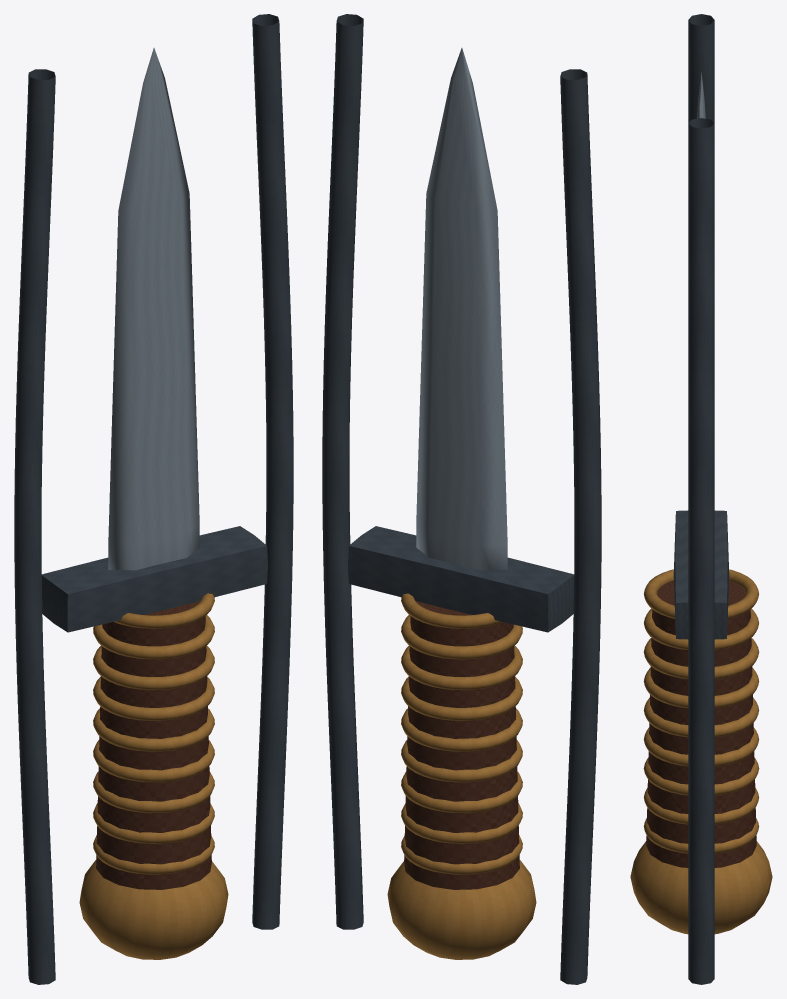
The picture shows the model from 3 angles, left to right: view 1: azimuth 30°, elevation 25°; view 2: azimuth 150°, elevation 25°; view 3: azimuth 270°, elevation 25°; orthographic projection. The views are drawn at different scales.
Visible parts, largest first — view 1: blade, iron.12, iron.13, leather.0, iron.11, brass.10, brass.7, brass.8, brass.6, brass.5, brass.4, brass.3 (+3 smaller); view 2: blade, iron.12, iron.13, leather.0, iron.11, brass.10, brass.7, brass.8, brass.6, brass.5, brass.4, brass.3 (+3 smaller); view 3: iron.13, leather.0, brass.10, iron.11, iron.12, brass.9, brass.7, brass.8, brass.6, brass.5, brass.4, brass.3 (+2 smaller).
Part boxes in pixels (x1=…): blade: x1=108, y1=48, x2=199, y2=570; iron.12: x1=14, y1=69, x2=55, y2=984; iron.13: x1=252, y1=14, x2=293, y2=929; leather.0: x1=96, y1=601, x2=211, y2=889; iron.11: x1=41, y1=526, x2=267, y2=632; brass.10: x1=79, y1=860, x2=228, y2=959; brass.7: x1=93, y1=645, x2=214, y2=690; brass.8: x1=93, y1=615, x2=214, y2=659; brass.6: x1=93, y1=676, x2=214, y2=720; brass.5: x1=93, y1=708, x2=214, y2=751; brass.4: x1=93, y1=740, x2=214, y2=782; brass.3: x1=93, y1=771, x2=214, y2=813; blade: x1=416, y1=48, x2=507, y2=570; iron.12: x1=560, y1=69, x2=601, y2=984; iron.13: x1=322, y1=14, x2=363, y2=929; leather.0: x1=404, y1=601, x2=519, y2=889; iron.11: x1=348, y1=526, x2=574, y2=632; brass.10: x1=387, y1=860, x2=536, y2=959; brass.7: x1=401, y1=645, x2=522, y2=690; brass.8: x1=401, y1=615, x2=522, y2=659; brass.6: x1=401, y1=676, x2=522, y2=720; brass.5: x1=401, y1=708, x2=522, y2=751; brass.4: x1=401, y1=740, x2=522, y2=782; brass.3: x1=401, y1=771, x2=522, y2=813; iron.13: x1=688, y1=118, x2=714, y2=984; leather.0: x1=646, y1=580, x2=756, y2=867; brass.10: x1=630, y1=841, x2=772, y2=934; iron.11: x1=673, y1=510, x2=729, y2=639; iron.12: x1=688, y1=14, x2=714, y2=122; brass.9: x1=644, y1=569, x2=758, y2=618; brass.7: x1=643, y1=638, x2=759, y2=679; brass.8: x1=644, y1=608, x2=758, y2=649; brass.6: x1=643, y1=667, x2=759, y2=708; brass.5: x1=643, y1=697, x2=759, y2=737; brass.4: x1=643, y1=727, x2=759, y2=766; brass.3: x1=643, y1=758, x2=759, y2=795.
Bounding box in the file's own units: 0.136 × 0.4254 × 0.064.
Materials: 4 (4 with a texture image).
